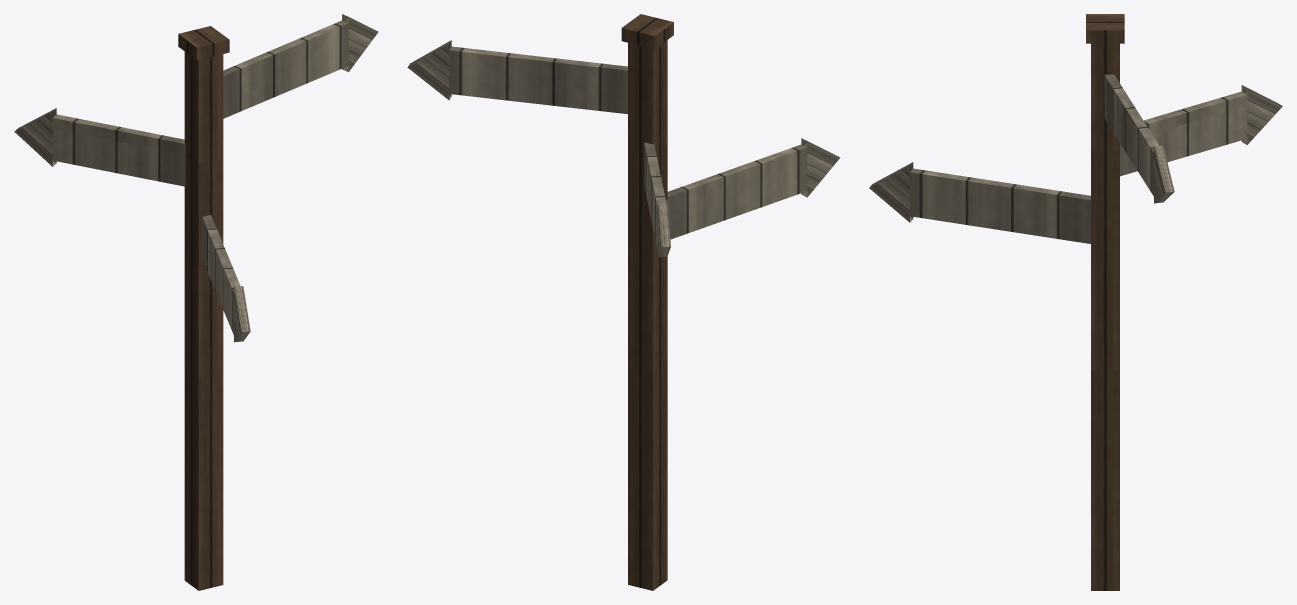
Rendered from Signpost_1.gltf.
3 views of the same model, side by side, from view 1: azimuth 30°, elevation 25°; view 2: azimuth 150°, elevation 25°; view 3: azimuth 270°, elevation 25° (orthographic). The views are drawn at different scales.
Visible parts, largest first — view 1: Signpost_1; view 2: Signpost_1; view 3: Signpost_1.
Boxes of the visible parts, x1,y1,x2,y2 form: Signpost_1: [14, 14, 378, 590]; Signpost_1: [407, 14, 840, 590]; Signpost_1: [869, 14, 1282, 590].
Size of the model in its own units: 1.52 by 2.56 by 1.71.
Materials: 2 (2 with a texture image).
